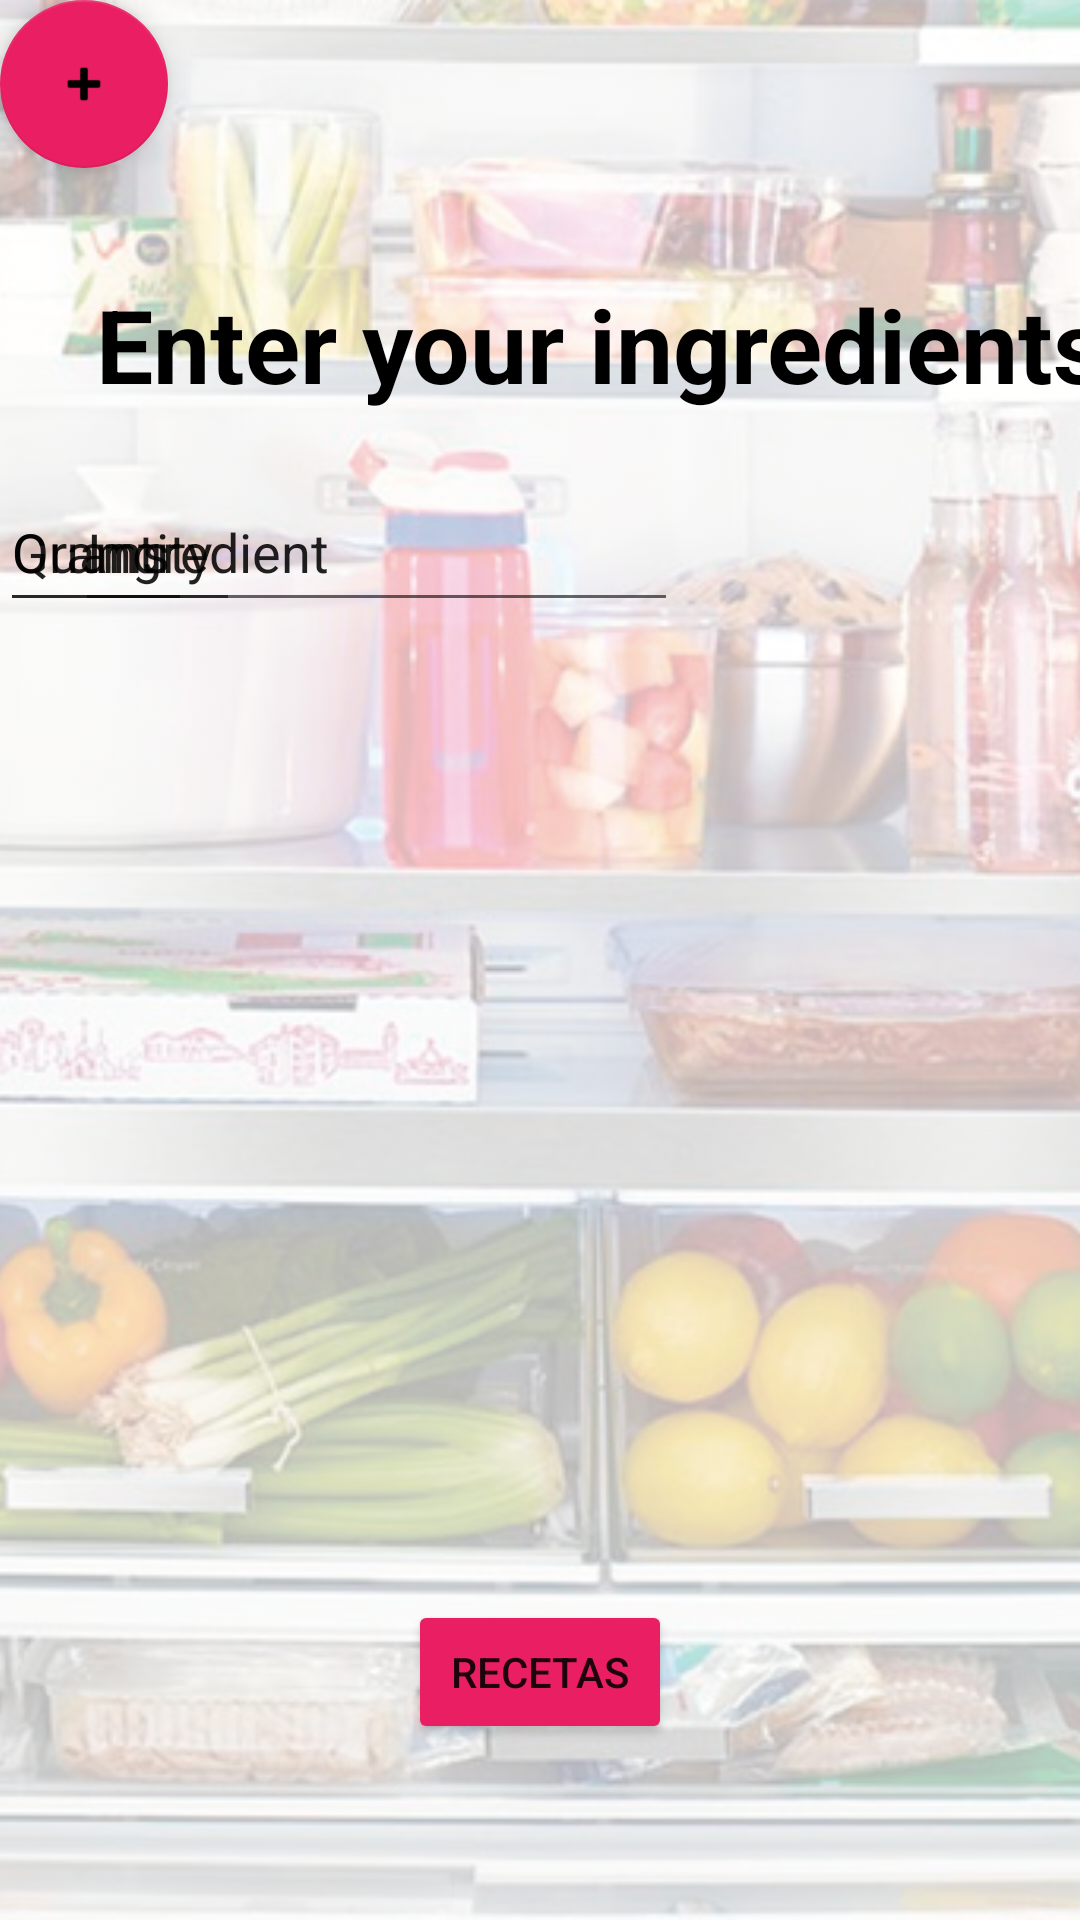

Point at icon controls on the screen. Image size 1080×1920, points as [x,y].
add: [84,84]
